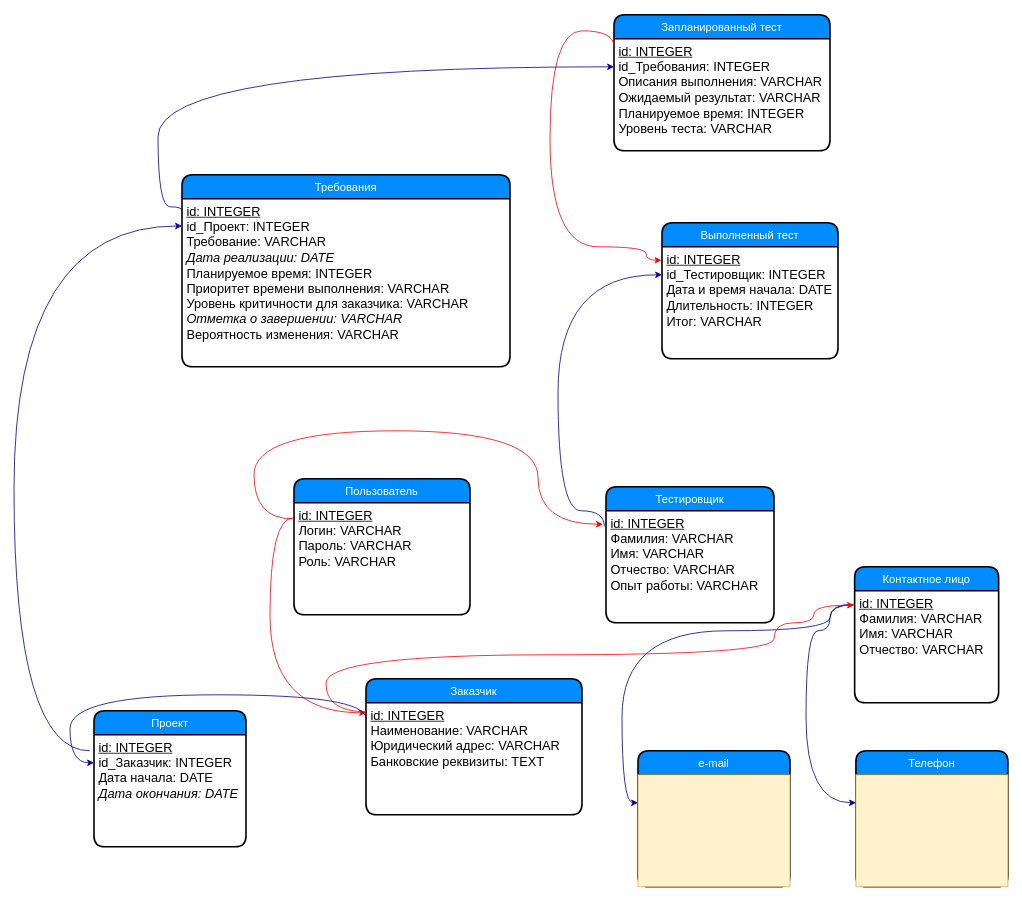
This 1022x901 diagram has some shape labels left out. The shapes that lost their labels are listed below. From the top down, each one's centre as x and y in pixels, then its label:
[713,830]: Логин: VARCHAR id_Заказчика: INTEGER
[931,830]: Номер: VARCHAR id_Заказчика: INTEGER
